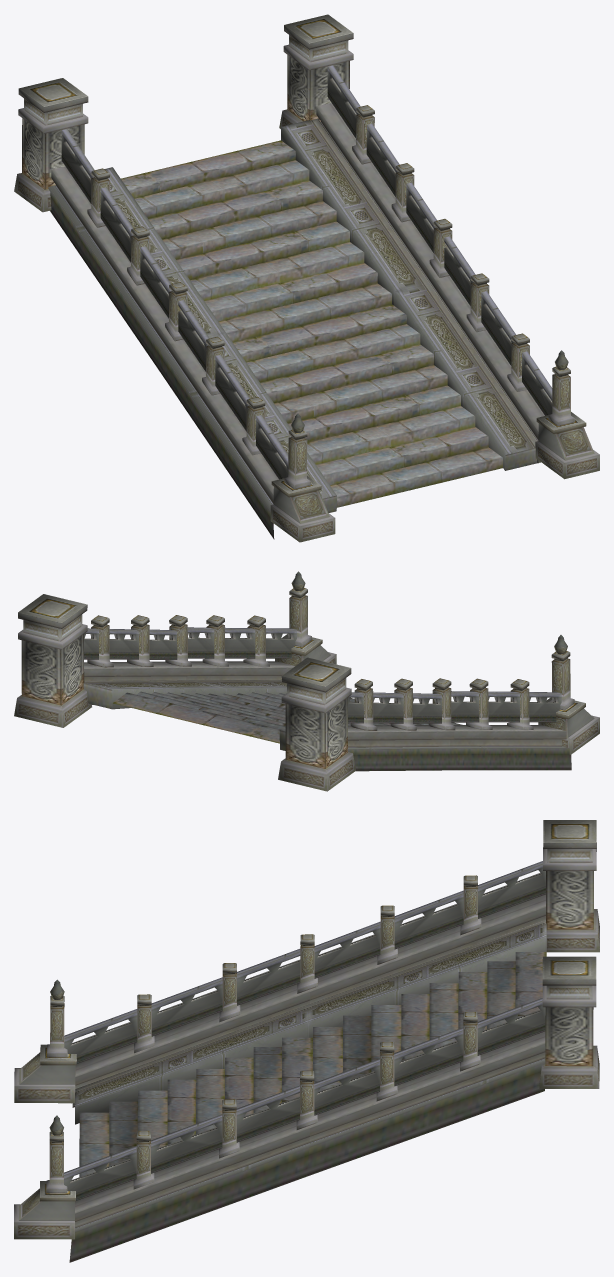
Rendered from S2_Build_XSC084.FBX.
The picture shows the model from 3 angles, top to bottom: view 1: azimuth 30°, elevation 25°; view 2: azimuth 150°, elevation 25°; view 3: azimuth 270°, elevation 25°; orthographic projection. The views are drawn at different scales.
Parts seen in each view (by area): view 1: S2_Build_XSC084; view 2: S2_Build_XSC084; view 3: S2_Build_XSC084.
Part boxes in pixels (left/top/right/bottom): S2_Build_XSC084: left=14, top=14, right=599, bottom=542; S2_Build_XSC084: left=14, top=571, right=599, bottom=791; S2_Build_XSC084: left=14, top=820, right=599, bottom=1262.
Bounding box in the file's own units: 336 × 281 × 518.
